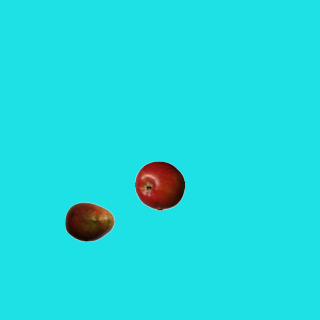Apple Braeburn: (134, 160, 184, 210)
Mango Red: (64, 196, 114, 246)
